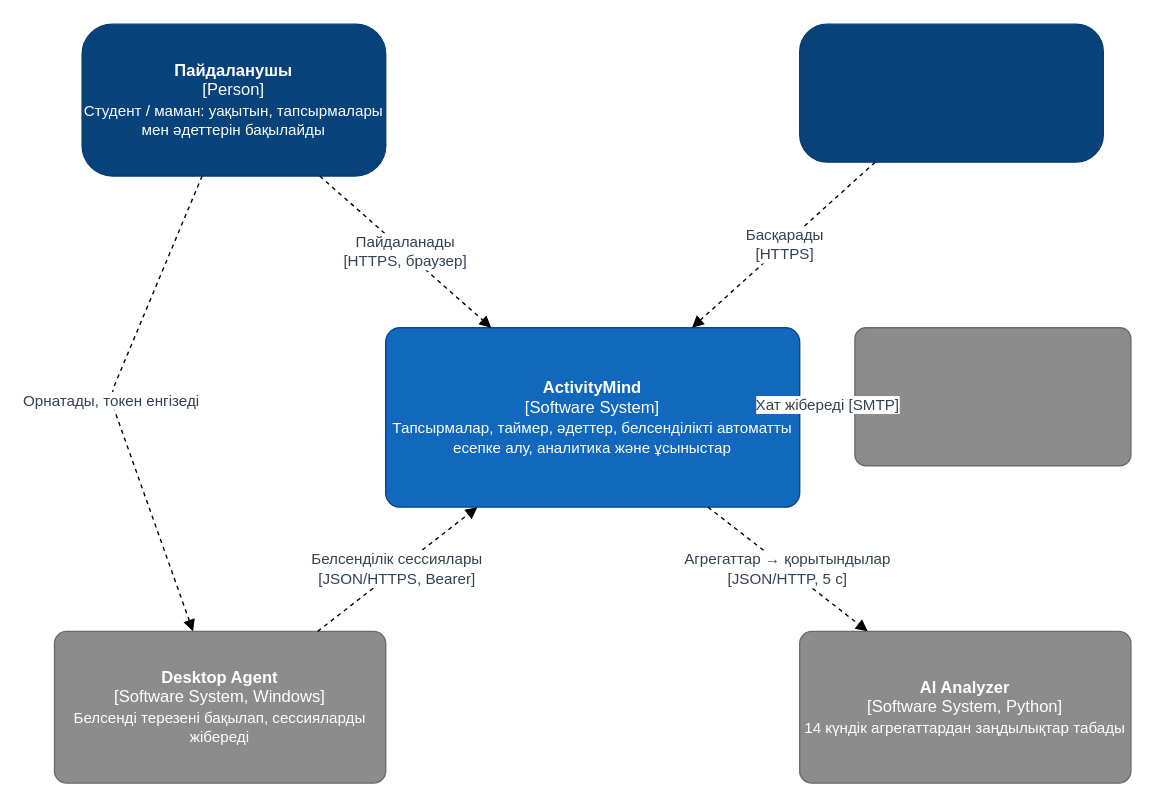
Image size: 1156x807. Some labels were removed from this diagram. Here are the shapes that lost their labels. From the top down, the centre of each, then its label:
pixel 950 92: Әкімші [Person] Пайдаланушылар мен рөлдерді басқарады
pixel 992 396: SMTP пошта [External System] Құпиясөзді қалпына келтіру хаттары
